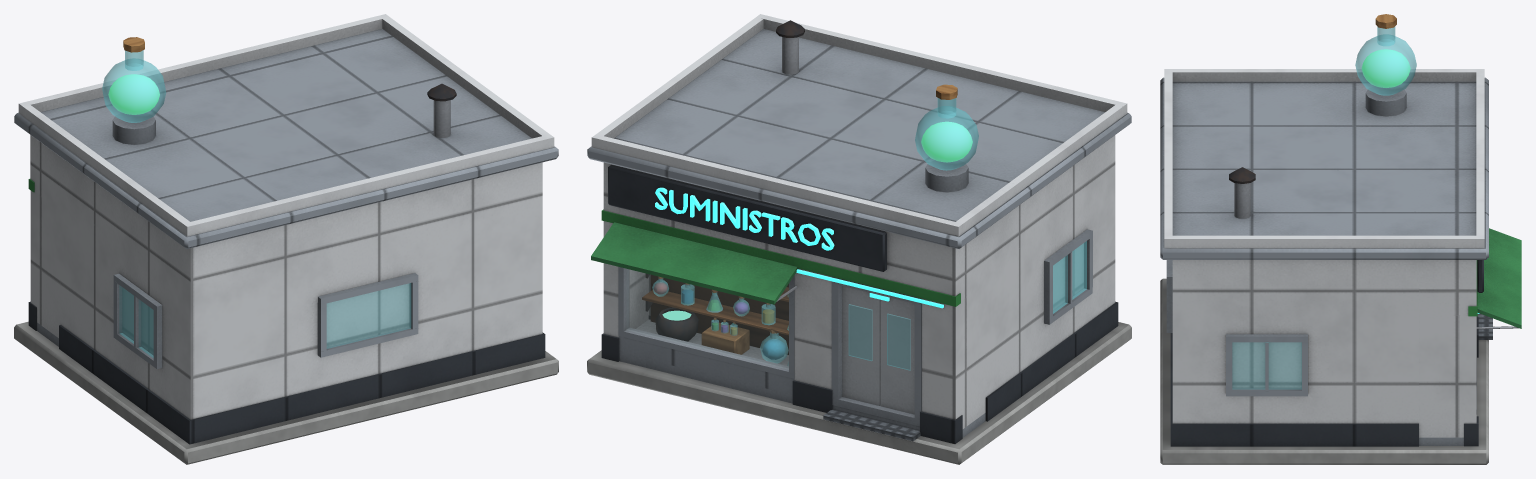
Rendered from tienda_pociones.fbx.
3 views of the same model, side by side, from view 1: azimuth 30°, elevation 25°; view 2: azimuth 150°, elevation 25°; view 3: azimuth 270°, elevation 25° (orthographic). The views are drawn at different scales.
Parts seen in each view (by area): view 1: tienda_pociones, tienda_pociones_cristal, tienda_pociones_verde_neon; view 2: tienda_pociones, tienda_pociones_escaparate_cristal, tienda_pociones_cristal, tienda_pociones_puerta_izq, tienda_pociones_puerta_der, tienda_pociones_neon, tienda_pociones_verde_neon; view 3: tienda_pociones, tienda_pociones_cristal, tienda_pociones_verde_neon.
Boxes of the visible parts, <box> form: tienda_pociones: <box>14,14,558,464</box>; tienda_pociones_cristal: <box>102,50,410,357</box>; tienda_pociones_verde_neon: <box>108,74,159,114</box>; tienda_pociones: <box>587,14,1131,464</box>; tienda_pociones_escaparate_cristal: <box>626,269,788,369</box>; tienda_pociones_cristal: <box>652,98,1086,370</box>; tienda_pociones_puerta_izq: <box>842,286,880,405</box>; tienda_pociones_puerta_der: <box>880,297,914,414</box>; tienda_pociones_neon: <box>655,187,943,308</box>; tienda_pociones_verde_neon: <box>662,121,972,320</box>; tienda_pociones: <box>1160,14,1521,464</box>; tienda_pociones_cristal: <box>1232,27,1416,389</box>; tienda_pociones_verde_neon: <box>1361,49,1410,87</box>.
Bounding box in the file's own units: 10 × 8.2 × 8.8.
Materials: 4 (4 with a texture image).
